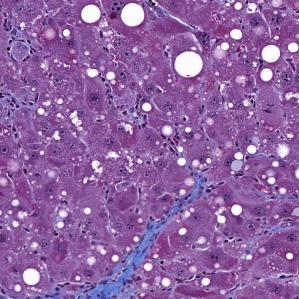fibrosis: (109, 207, 196, 289)
